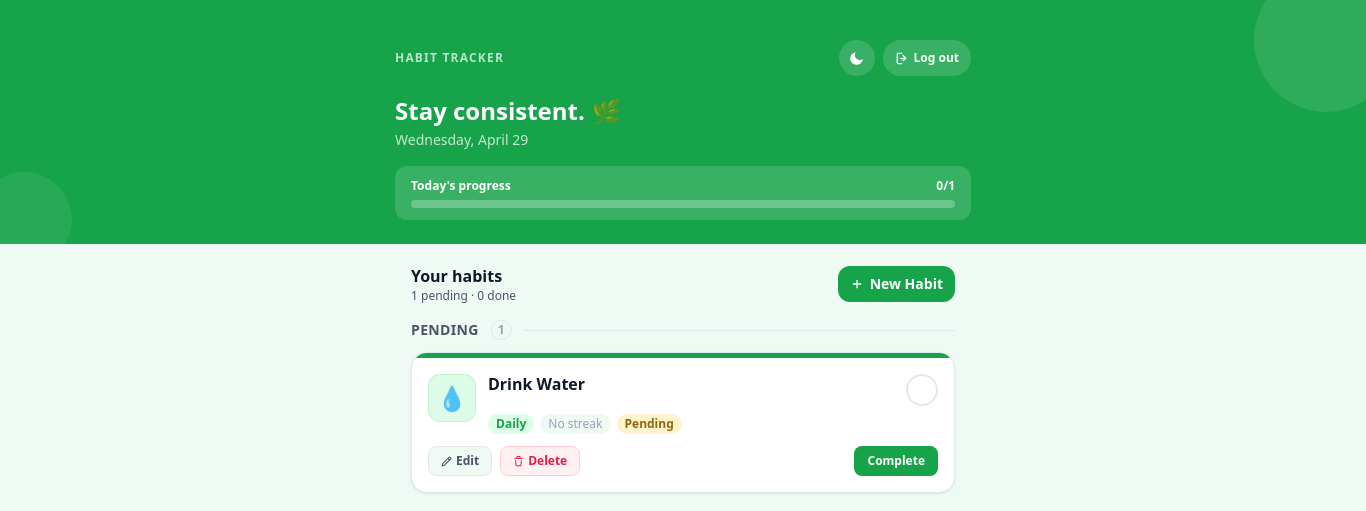
Test case: habit form › toggles completion and updates the streak display
Click the button with test id "habit-complete-drink-water". click: x=922, y=390
box: [906,374,938,406]
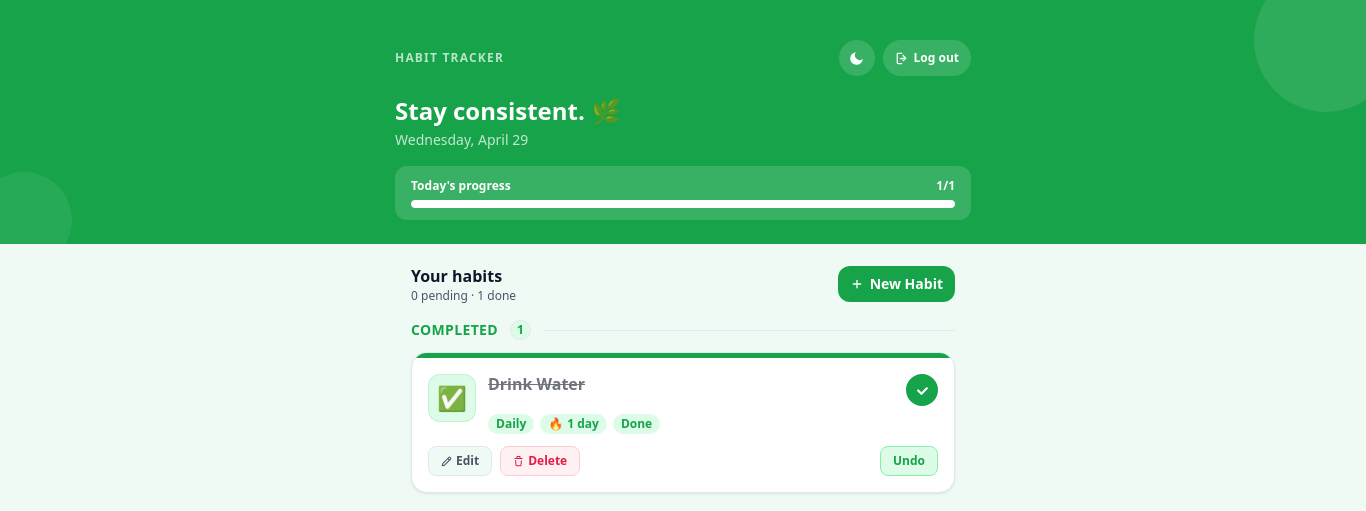
Check: the text with test id "habit-streak-drink-water" shows "1", box [567,415,574,432]
